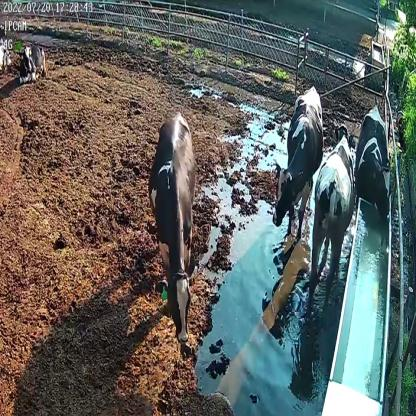cow: (147, 110, 197, 346), (304, 121, 355, 303), (269, 81, 324, 237), (356, 101, 394, 227), (18, 42, 48, 82)
